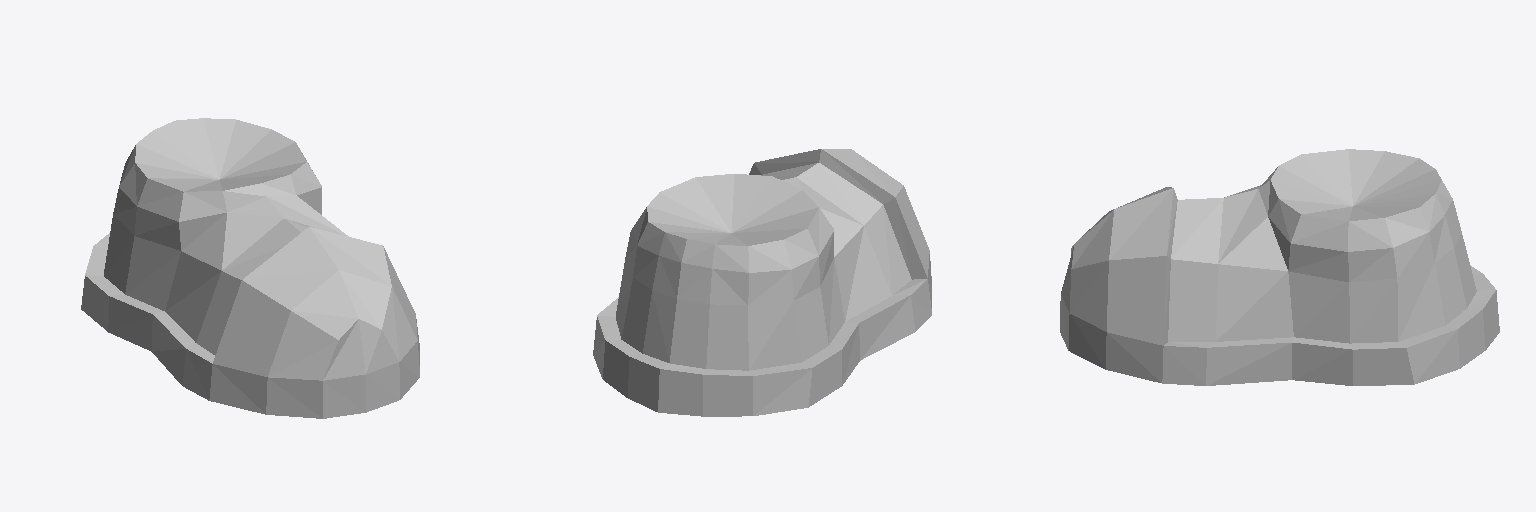
The model's file is footL.obj.
3 renders of one model, left to right at view 1: azimuth 30°, elevation 25°; view 2: azimuth 150°, elevation 25°; view 3: azimuth 270°, elevation 25°, orthographic.
Visible parts, largest first — view 1: mat6 footL, footL mat7; view 2: footL mat7, mat6 footL; view 3: footL mat7, mat6 footL.
Boxes of the visible parts, <box> form: mat6 footL: <box>81,227,419,418</box>; footL mat7: <box>104,118,348,354</box>; footL mat7: <box>616,163,911,370</box>; mat6 footL: <box>593,149,931,416</box>; footL mat7: <box>1168,149,1476,343</box>; mat6 footL: <box>1060,187,1499,385</box>.
Size of the model in its own units: 0.2968 by 0.1947 by 0.5095.